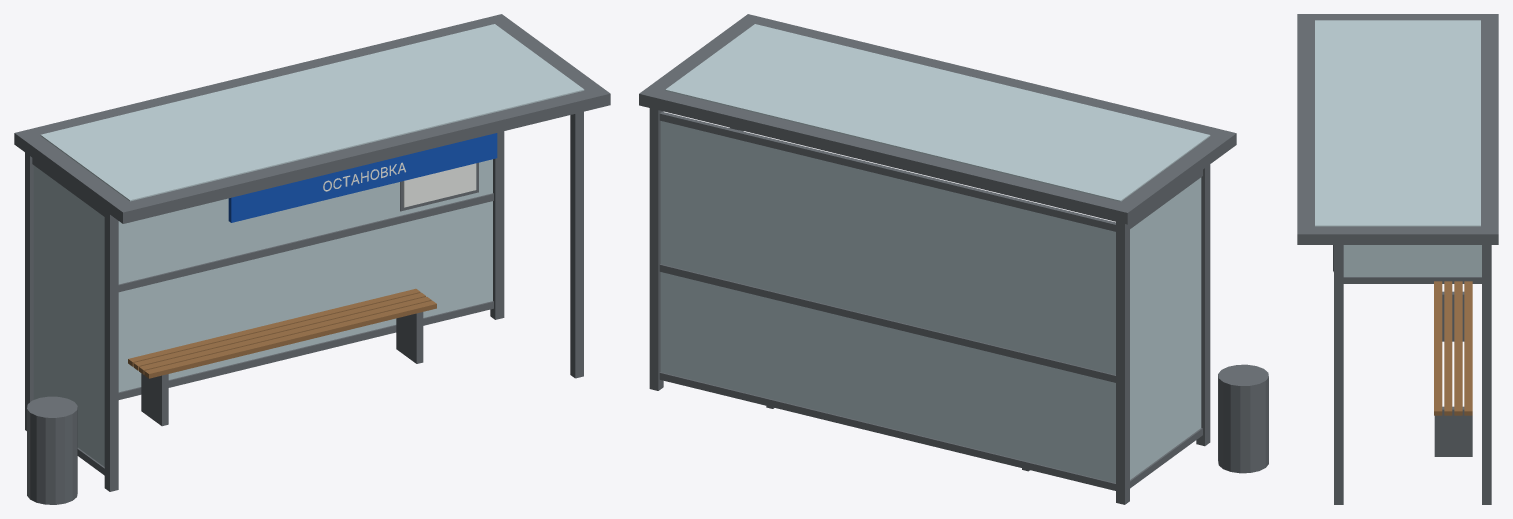
The model's file is PT_BusStop_Shelter.glb.
The picture shows the model from 3 angles, left to right: view 1: azimuth 30°, elevation 25°; view 2: azimuth 150°, elevation 25°; view 3: azimuth 270°, elevation 25°; orthographic projection. The views are drawn at different scales.
Visible parts, largest first — view 1: Glass, Roof_Glass, Roof, Frame, Bench_Seat, NameBoard, Bin, Bench_Legs, Timetable; view 2: Glass, Roof_Glass, Frame, Roof, Bin; view 3: Roof_Glass, Roof, Frame, Bench_Seat, Glass, Bench_Legs.
Boxes of the visible parts, bbox=[...] form: Glass: bbox=[33, 159, 492, 466]; Roof_Glass: bbox=[40, 24, 584, 201]; Roof: bbox=[14, 14, 610, 223]; Frame: bbox=[25, 111, 583, 491]; Bench_Seat: bbox=[128, 288, 436, 378]; NameBoard: bbox=[228, 133, 497, 222]; Bin: bbox=[27, 396, 77, 504]; Bench_Legs: bbox=[141, 312, 423, 426]; Timetable: bbox=[403, 163, 476, 207]; Glass: bbox=[660, 121, 1201, 482]; Roof_Glass: bbox=[665, 24, 1210, 201]; Frame: bbox=[649, 108, 1210, 504]; Roof: bbox=[639, 14, 1236, 224]; Bin: bbox=[1218, 364, 1268, 473]; Roof_Glass: bbox=[1315, 20, 1480, 226]; Roof: bbox=[1297, 14, 1498, 244]; Frame: bbox=[1334, 245, 1491, 504]; Bench_Seat: bbox=[1434, 281, 1472, 415]; Glass: bbox=[1343, 245, 1481, 276]; Bench_Legs: bbox=[1434, 291, 1472, 456].
Bounding box in the file's own units: 4.95 × 2.56 × 1.7.
